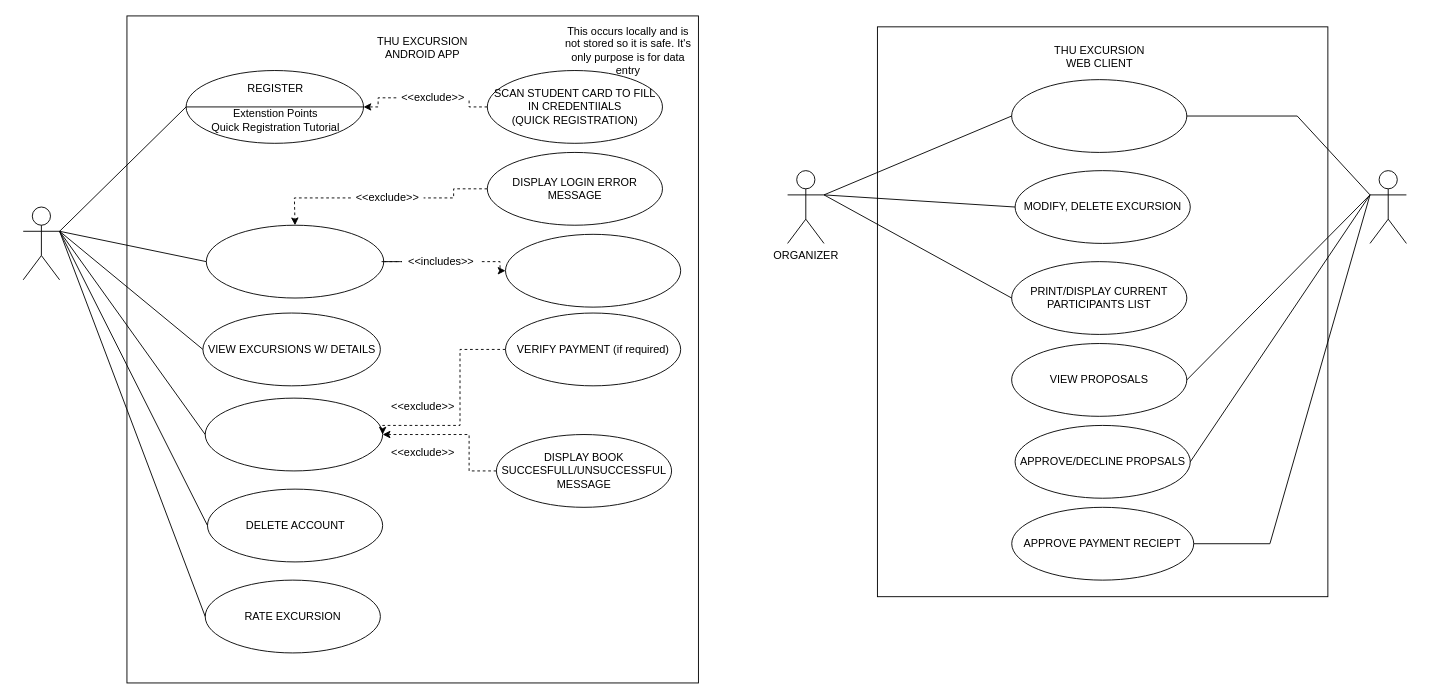
This 1449x699 diagram has some shape labels left out. Each missing label, with the centre of its shape:
"ADMINISTRATOR" belongs at (x=1387, y=206).
"BOOK EXCURSION" belongs at (x=293, y=434).
"LOG IN" belongs at (x=294, y=261).
"STUDENT" belongs at (x=41, y=243).
"SUBMIT PROPOSAL" belongs at (x=1099, y=115).
"VERIFY CREDENTIALS" belongs at (x=593, y=270).
